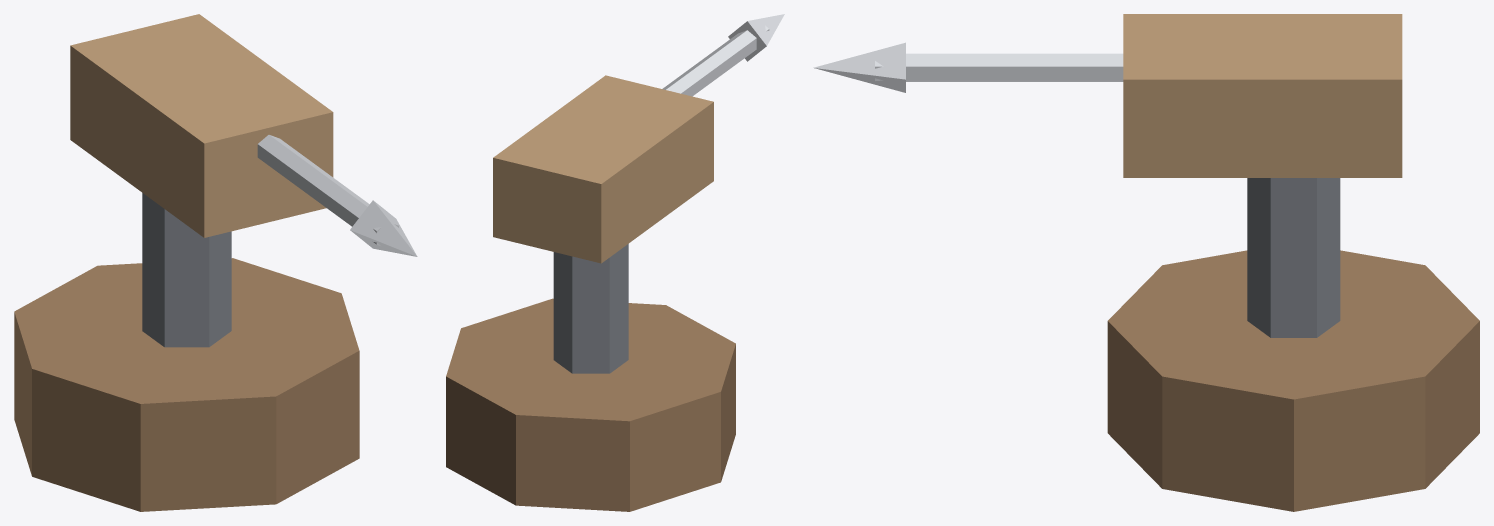
Rendered from HarpoonTurret.fbx.
3 views of the same model, side by side, from view 1: azimuth 30°, elevation 25°; view 2: azimuth 150°, elevation 25°; view 3: azimuth 270°, elevation 25° (orthographic). The views are drawn at different scales.
Parts seen in each view (by area): view 1: Body, Part_Head; view 2: Body, Part_Head; view 3: Body, Part_Head.
Boxes of the visible parts, x1=… form: Body: x1=14, y1=193, x2=359, y2=511; Part_Head: x1=70, y1=14, x2=417, y2=256; Body: x1=446, y1=244, x2=735, y2=511; Part_Head: x1=493, y1=14, x2=784, y2=263; Body: x1=1107, y1=178, x2=1479, y2=511; Part_Head: x1=813, y1=14, x2=1402, y2=177.
Bounding box in the file's own units: 1.2 × 1.39 × 2.15.
